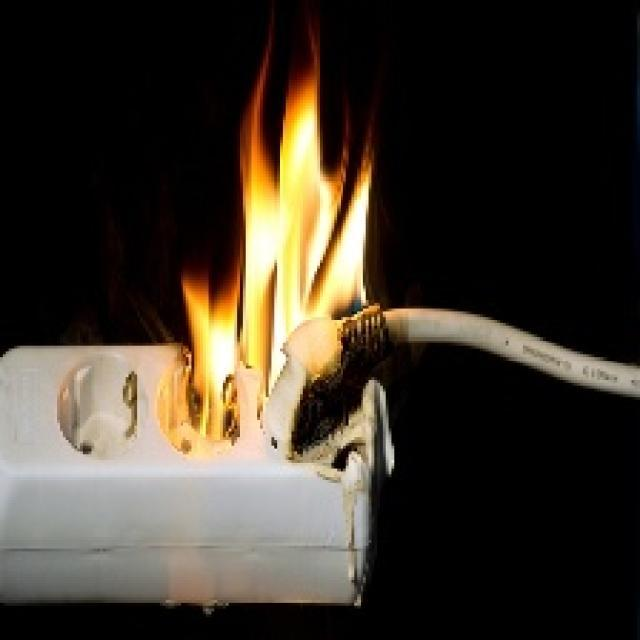Fire: (172, 61, 372, 460)
